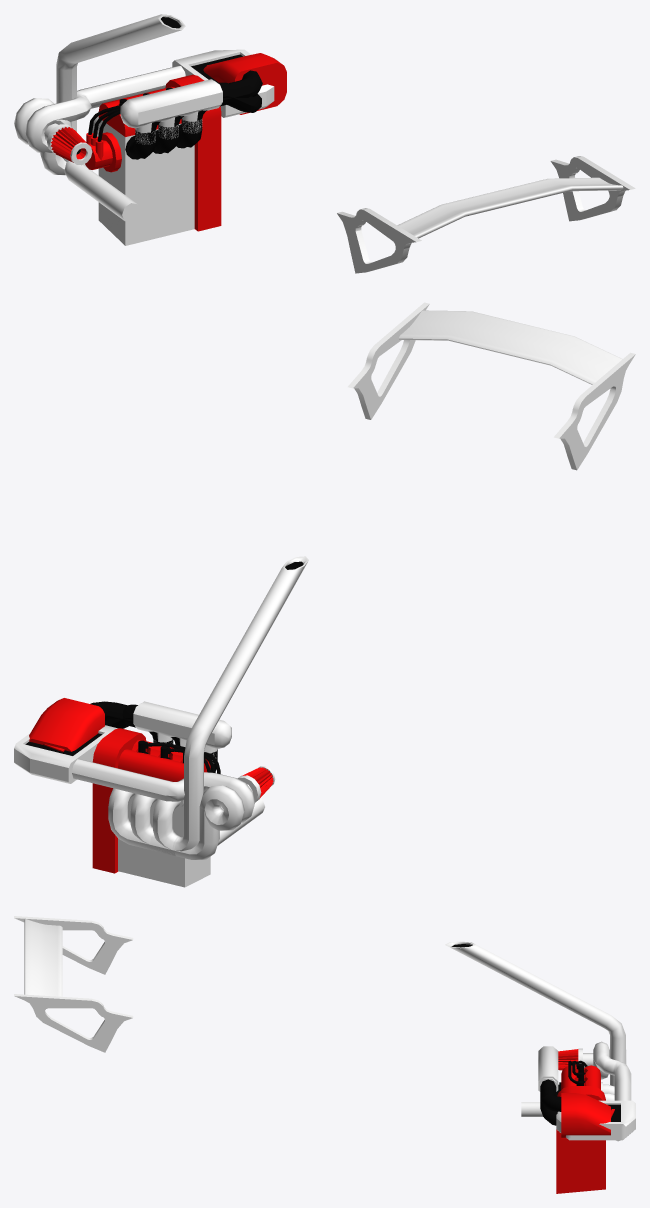
File: DAIHATSU MIRA 1998 MODS (2X-FACES).fbx
3 views of the same model, one above another, from view 1: azimuth 30°, elevation 25°; view 2: azimuth 150°, elevation 25°; view 3: azimuth 270°, elevation 25° (orthographic). The views are drawn at different scales.
Parts seen in each view (by area): view 1: BLOCK, SPOILER, EXHAUST LVL3, INTAKE LVL1, INTAKE LVL2, EXHAUST LVL2, INTAKE LVL3, EXHAUST LVL1; view 2: SPOILER, BLOCK, EXHAUST LVL2, EXHAUST LVL3, EXHAUST LVL1, INTAKE LVL3, INTAKE LVL1, INTAKE LVL2; view 3: SPOILER, BLOCK, EXHAUST LVL2, INTAKE LVL1, INTAKE LVL3, EXHAUST LVL3, INTAKE LVL2, EXHAUST LVL1.
Boxes of the visible parts, x1,y1,x2,y2 form: BLOCK: [85, 74, 221, 245]; SPOILER: [337, 156, 635, 273]; EXHAUST LVL3: [14, 81, 123, 175]; INTAKE LVL1: [125, 53, 286, 159]; INTAKE LVL2: [120, 79, 261, 144]; EXHAUST LVL2: [56, 14, 185, 161]; INTAKE LVL3: [116, 49, 274, 117]; EXHAUST LVL1: [64, 116, 140, 222]; SPOILER: [348, 302, 635, 470]; BLOCK: [92, 728, 220, 887]; EXHAUST LVL2: [174, 556, 308, 851]; EXHAUST LVL3: [128, 766, 275, 859]; EXHAUST LVL1: [108, 788, 264, 855]; INTAKE LVL3: [14, 725, 139, 792]; INTAKE LVL1: [29, 698, 217, 772]; INTAKE LVL2: [105, 701, 231, 763]; SPOILER: [14, 916, 133, 1052]; BLOCK: [556, 1060, 605, 1193]; EXHAUST LVL2: [445, 941, 625, 1086]; INTAKE LVL1: [540, 1082, 610, 1138]; INTAKE LVL3: [556, 1079, 635, 1140]; EXHAUST LVL3: [558, 1041, 631, 1085]; INTAKE LVL2: [538, 1046, 558, 1125]; EXHAUST LVL1: [521, 1082, 620, 1141].
Size of the model in its own units: 205 by 248 by 624.
